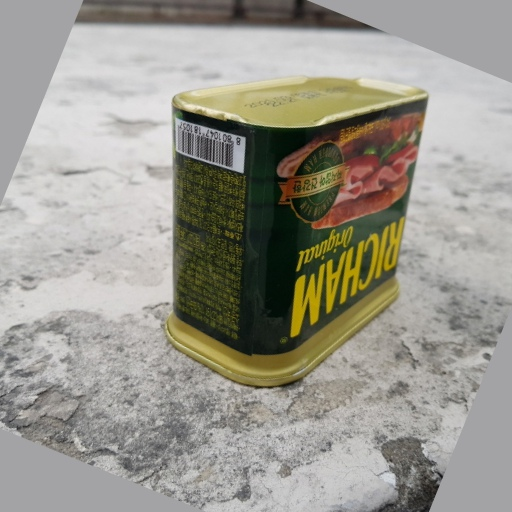Metal_2: (159, 72, 430, 385)
